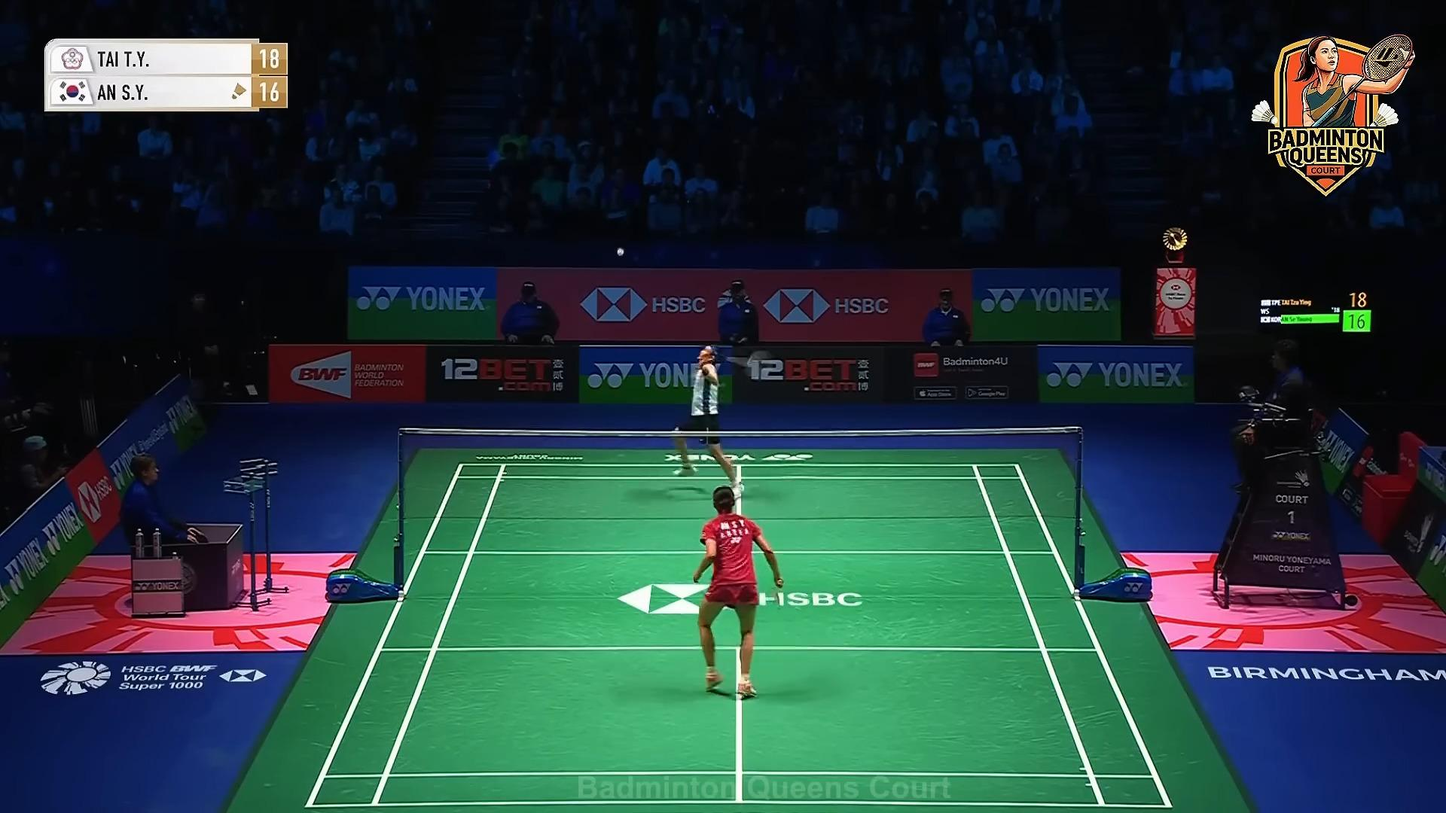player: (692, 486, 783, 699), (670, 342, 745, 500)
shuttlecock: (617, 248, 624, 256)
